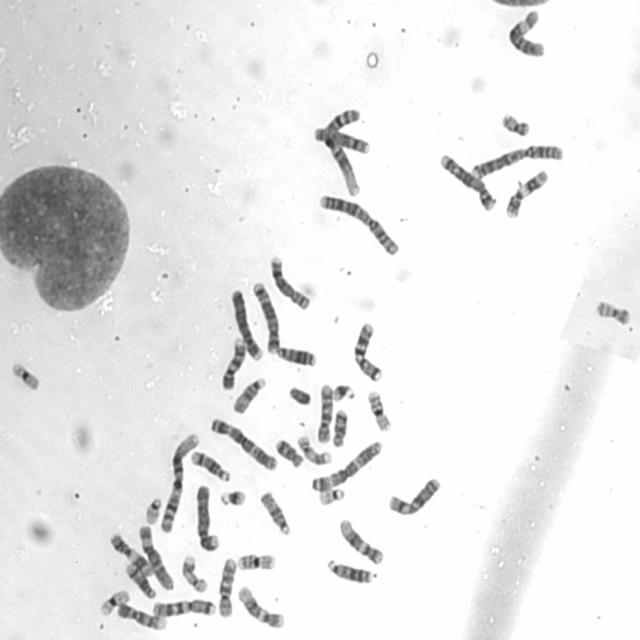A1: (157, 428, 200, 533), (321, 103, 363, 198)
A2: (315, 190, 401, 257), (468, 140, 566, 180)
A3: (307, 436, 383, 494), (207, 413, 278, 472)
B4: (228, 286, 264, 362), (193, 481, 220, 552)
B5: (438, 150, 497, 212), (250, 278, 280, 355)
C10: (215, 555, 238, 619), (314, 380, 334, 445)
C11: (502, 166, 550, 220), (107, 530, 155, 579)
C12: (336, 515, 386, 567), (235, 582, 285, 630)
C6: (136, 521, 175, 592), (506, 8, 546, 58)
C7: (351, 320, 384, 383), (150, 595, 217, 619)
C8: (267, 252, 313, 311), (311, 124, 372, 156)
C9: (115, 599, 168, 631), (220, 334, 248, 391)
D13: (325, 556, 374, 585), (274, 342, 317, 368)
D14: (188, 448, 231, 483), (123, 559, 157, 600)
D15: (257, 488, 292, 538), (230, 374, 268, 415)
E16: (364, 386, 392, 433), (234, 549, 278, 572)
E17: (179, 552, 209, 594), (295, 433, 333, 466)
E18: (272, 436, 306, 469), (330, 406, 350, 449)
F19: (96, 586, 131, 617), (9, 360, 42, 392)
F20: (592, 296, 632, 327), (499, 109, 531, 138)
G21: (216, 486, 248, 508), (329, 381, 356, 402)
G22: (316, 484, 346, 507), (142, 494, 162, 526)
X: (385, 473, 444, 518)
Y: (286, 383, 312, 407)
